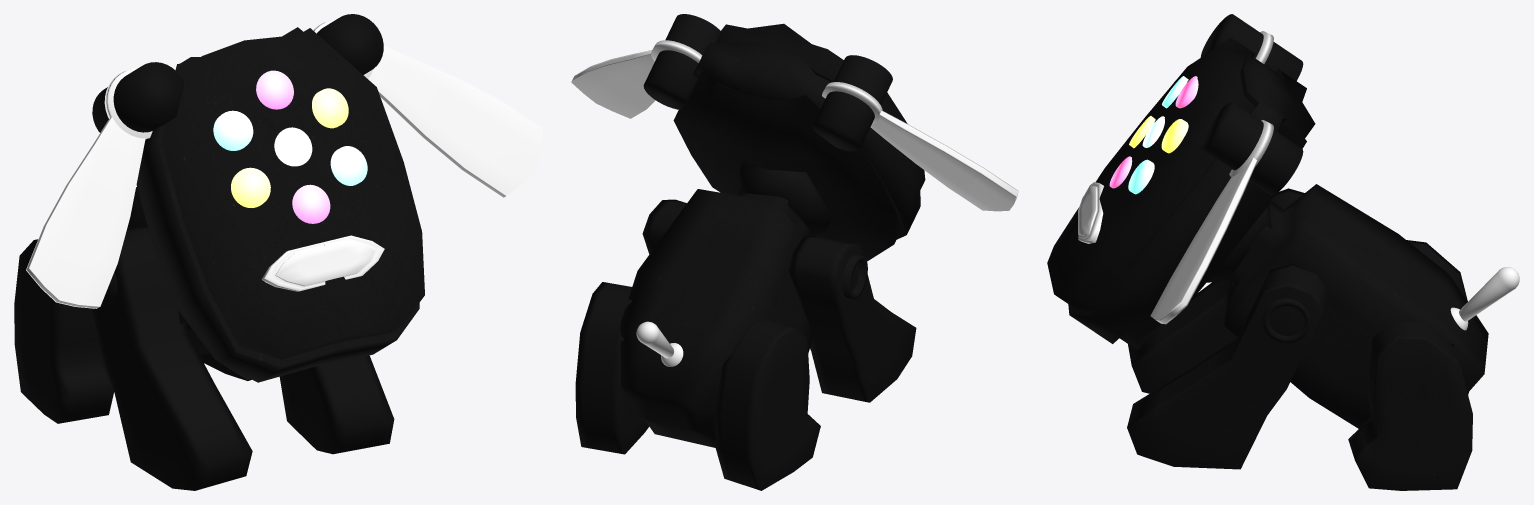
Rendered from asset.glb.
The picture shows the model from 3 angles, left to right: view 1: azimuth 30°, elevation 25°; view 2: azimuth 150°, elevation 25°; view 3: azimuth 270°, elevation 25°; orthographic projection. The views are drawn at different scales.
Visible parts, largest first — view 1: Cube.002, Cube.007, Cube.004, Cube.003, Cube.008, Cube.005, Cube.009, Cylinder.008, Cylinder.007, Cylinder, Cylinder.005, Cylinder.004 (+6 smaller); view 2: Cube.001, Cube.002, Cube.008, Cube.007, Cube.006, Cube.004, Cylinder.008, Cylinder.007, Cube.003, Cube, Cube.005, Cylinder.010 (+3 smaller); view 3: Cube.002, Cube.001, Cube.005, Cube.006, Cube.007, Cylinder.007, Cube.003, Cylinder.008, Sphere, Cube.009, Cube, Cylinder.009 (+4 smaller).
Part boxes in pixels (bbox=[...]): Cube.002: bbox=[136, 27, 424, 382]; Cube.007: bbox=[92, 226, 252, 490]; Cube.004: bbox=[26, 117, 145, 308]; Cube.003: bbox=[368, 46, 542, 197]; Cube.008: bbox=[14, 239, 114, 423]; Cube.005: bbox=[279, 355, 394, 454]; Cube.009: bbox=[261, 235, 384, 291]; Cylinder.008: bbox=[92, 62, 184, 132]; Cylinder.007: bbox=[317, 14, 383, 74]; Cylinder: bbox=[213, 110, 253, 150]; Cylinder.005: bbox=[231, 167, 270, 207]; Cylinder.004: bbox=[292, 184, 330, 223]; Cube.001: bbox=[620, 187, 813, 447]; Cube.002: bbox=[673, 23, 925, 261]; Cube.008: bbox=[715, 318, 820, 490]; Cube.007: bbox=[788, 235, 916, 402]; Cube.006: bbox=[575, 282, 648, 454]; Cube.004: bbox=[870, 110, 1018, 211]; Cylinder.008: bbox=[812, 55, 892, 151]; Cylinder.007: bbox=[643, 14, 720, 109]; Cube.003: bbox=[571, 50, 655, 118]; Cube: bbox=[739, 160, 832, 235]; Cube.005: bbox=[642, 199, 686, 254]; Cylinder.010: bbox=[842, 254, 867, 299]; Cube.002: bbox=[1047, 38, 1315, 350]; Cube.001: bbox=[1224, 184, 1488, 428]; Cube.005: bbox=[1127, 264, 1328, 469]; Cube.006: bbox=[1348, 321, 1472, 490]; Cube.007: bbox=[1128, 188, 1304, 393]; Cylinder.007: bbox=[1200, 102, 1303, 195]; Cube.003: bbox=[1150, 157, 1257, 324]; Cylinder.008: bbox=[1200, 14, 1303, 80]; Sphere: bbox=[1459, 267, 1519, 321]; Cube.009: bbox=[1078, 182, 1103, 243]; Cube: bbox=[1207, 202, 1271, 282]; Cylinder.009: bbox=[1263, 298, 1310, 343].
Bounding box in the file's own units: 3.42 × 2.68 × 2.97.
10 materials, 1 textured.
